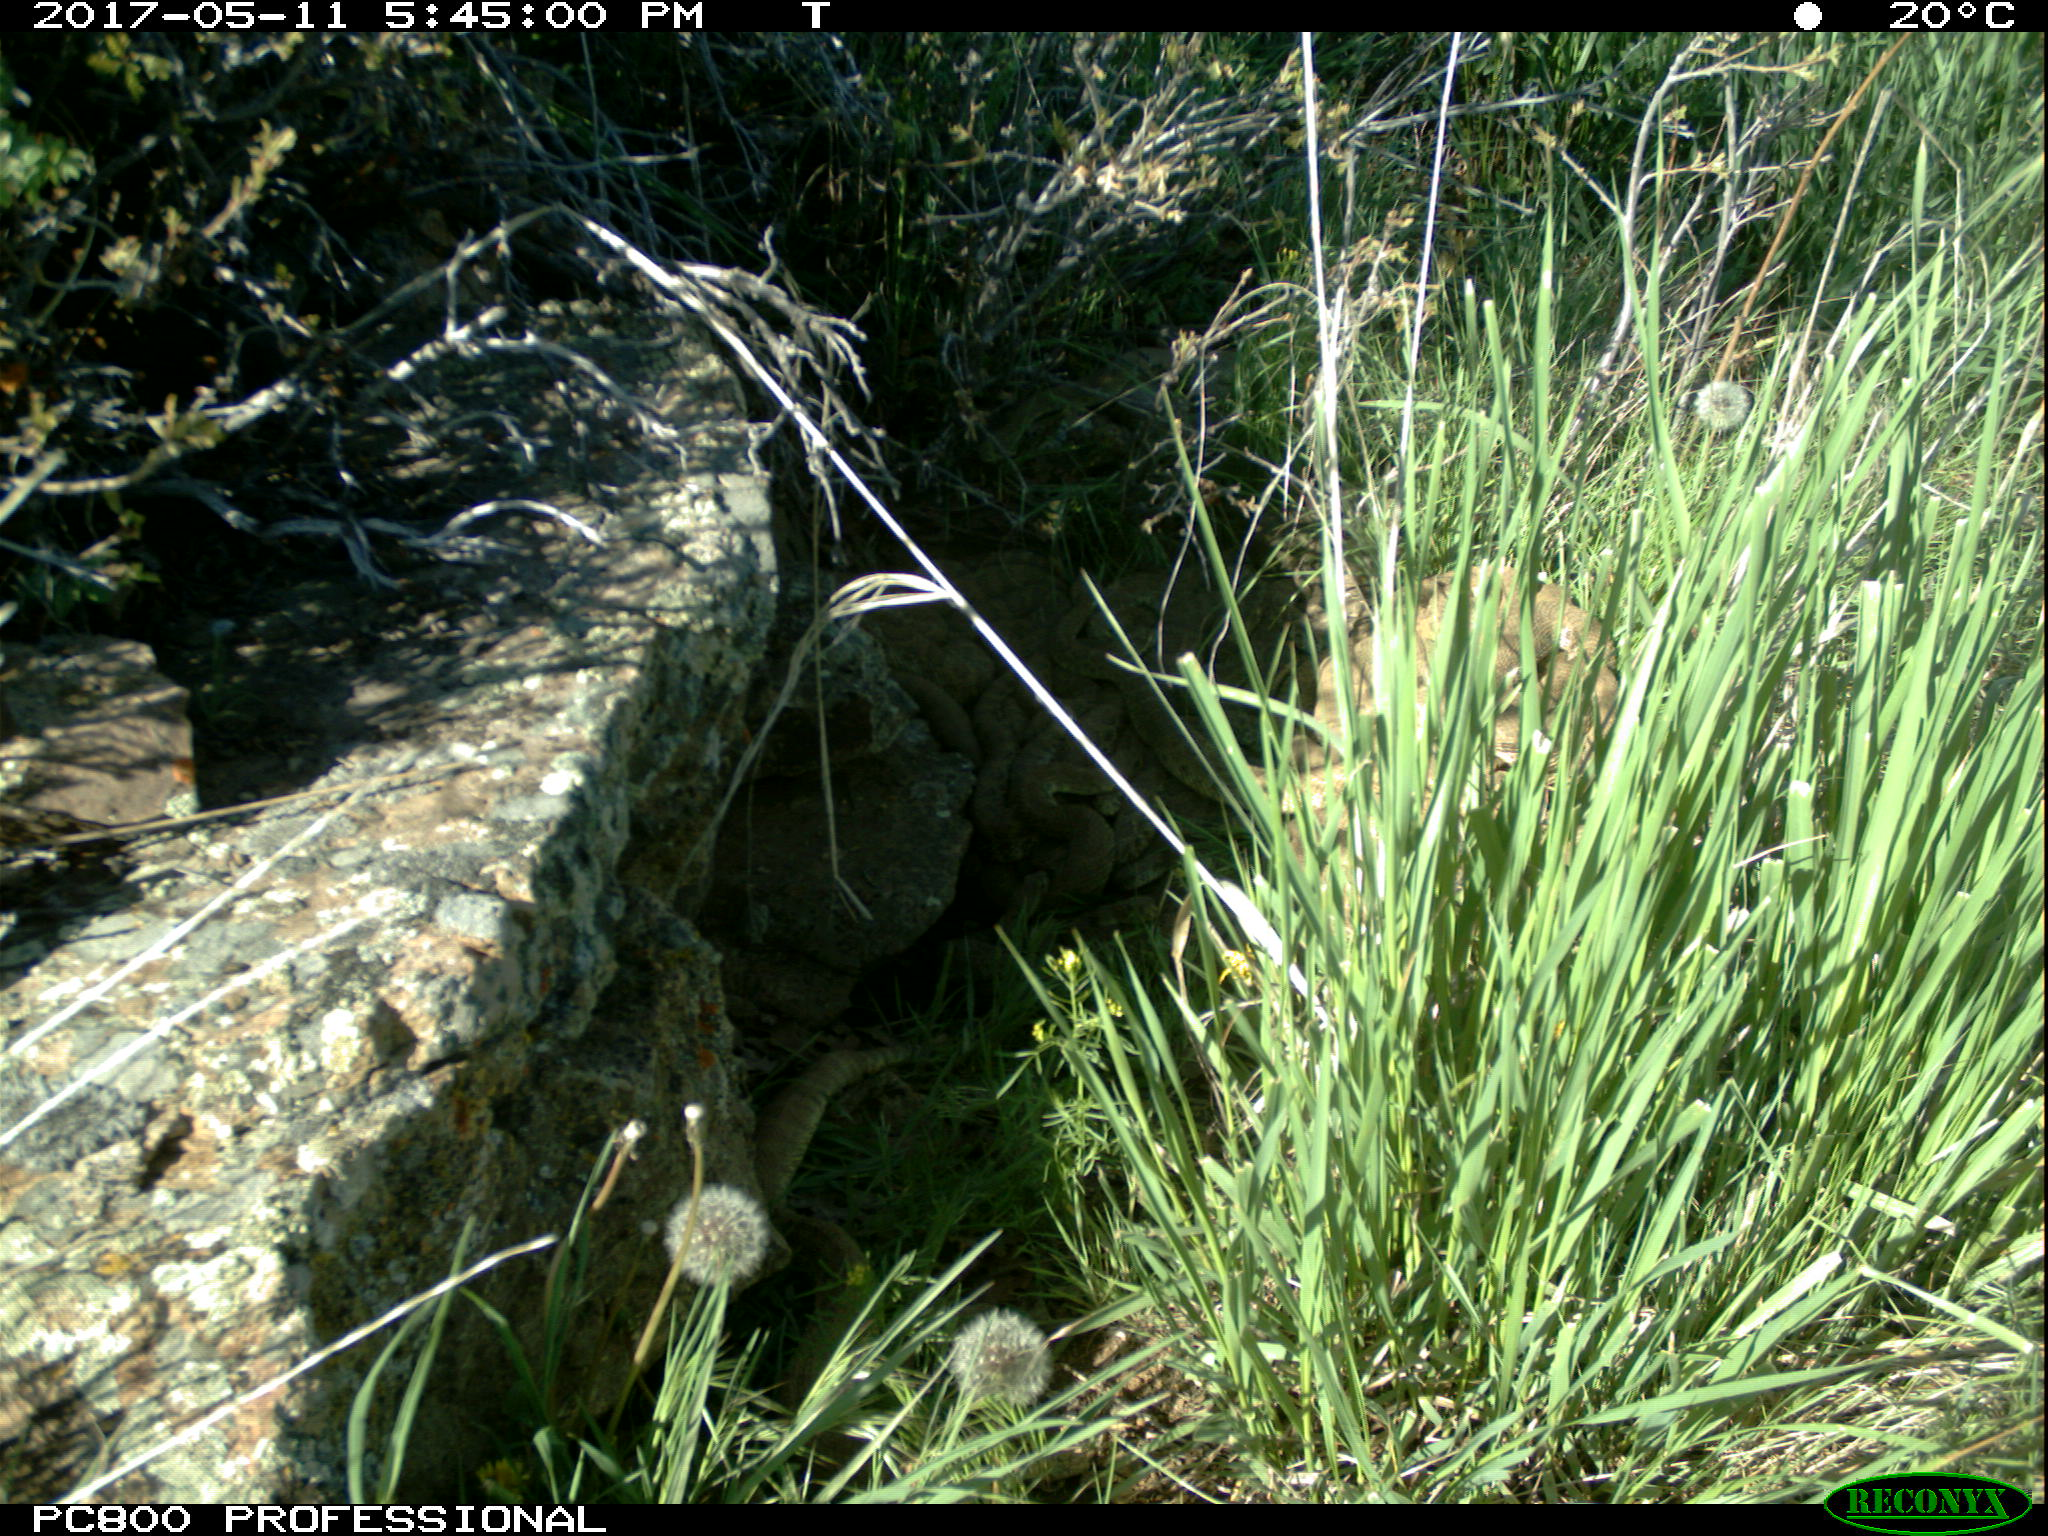snake: (1164, 570, 1624, 800), (943, 665, 1130, 907), (885, 568, 1214, 705), (760, 1039, 927, 1208)
